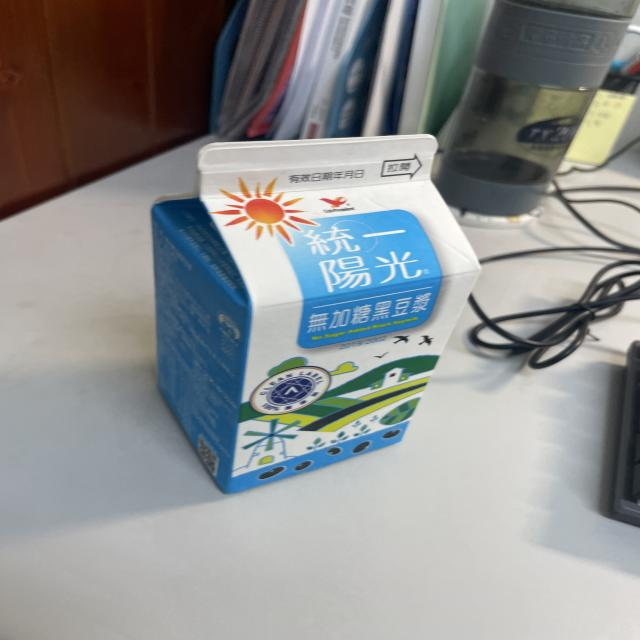TongYi_UnsweetenedBlackSoyMilk: (151, 131, 488, 494)
